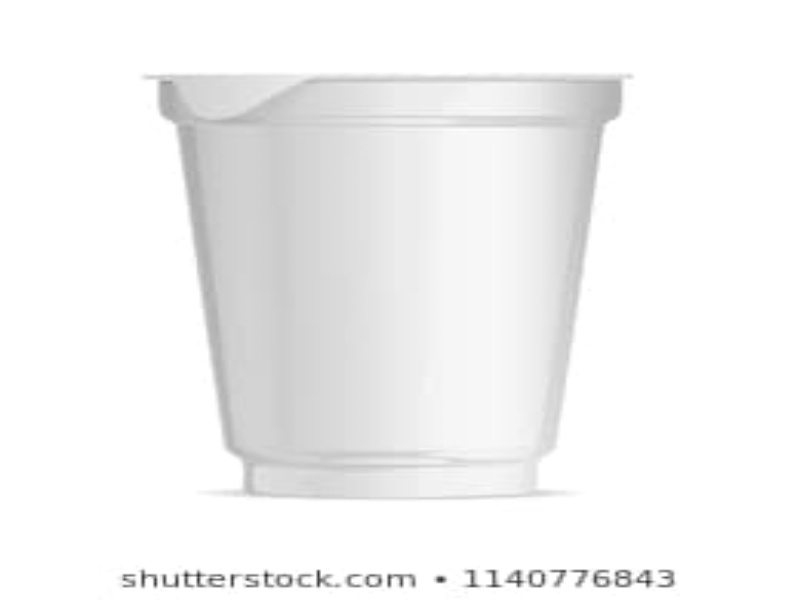yogurt-cup: (152, 67, 640, 502)
